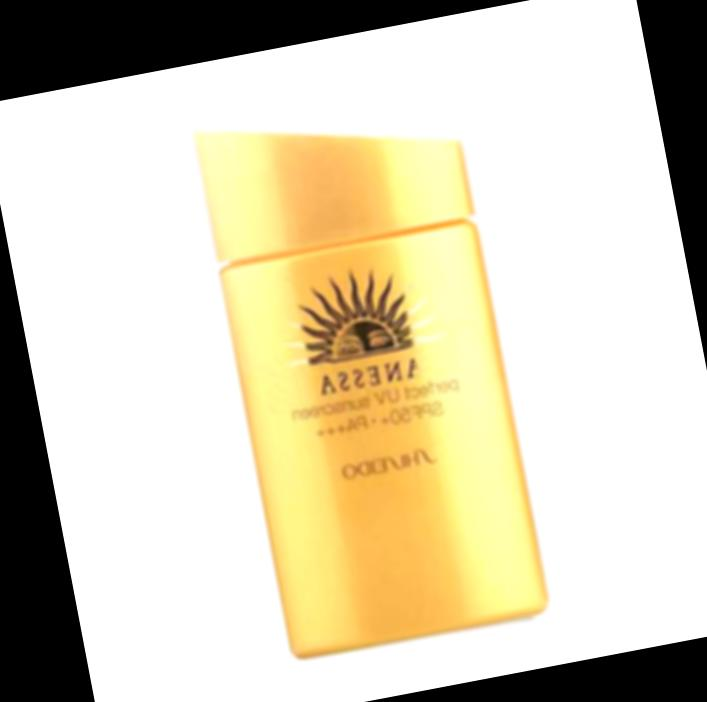cosmetic: (188, 65, 548, 660)
